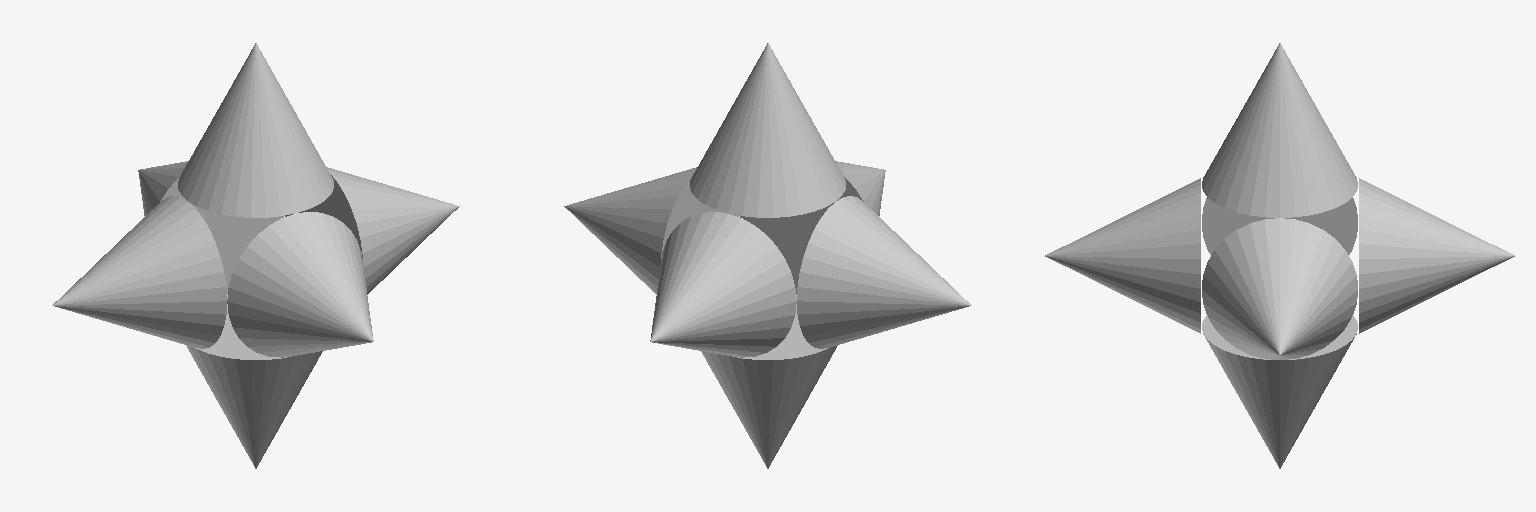
File: togetoge.obj
The picture shows the model from 3 angles: view 1: azimuth 30°, elevation 25°; view 2: azimuth 150°, elevation 25°; view 3: azimuth 270°, elevation 25°; orthographic projection.
Visible parts, largest first — view 1: 円錐.001; view 2: 円錐.001; view 3: 円錐.001.
Boxes of the visible parts, x1=… form: 円錐.001: x1=52, y1=43, x2=459, y2=468; 円錐.001: x1=564, y1=43, x2=971, y2=468; 円錐.001: x1=1045, y1=43, x2=1514, y2=468.
Size of the model in its own units: 6 by 6 by 6.